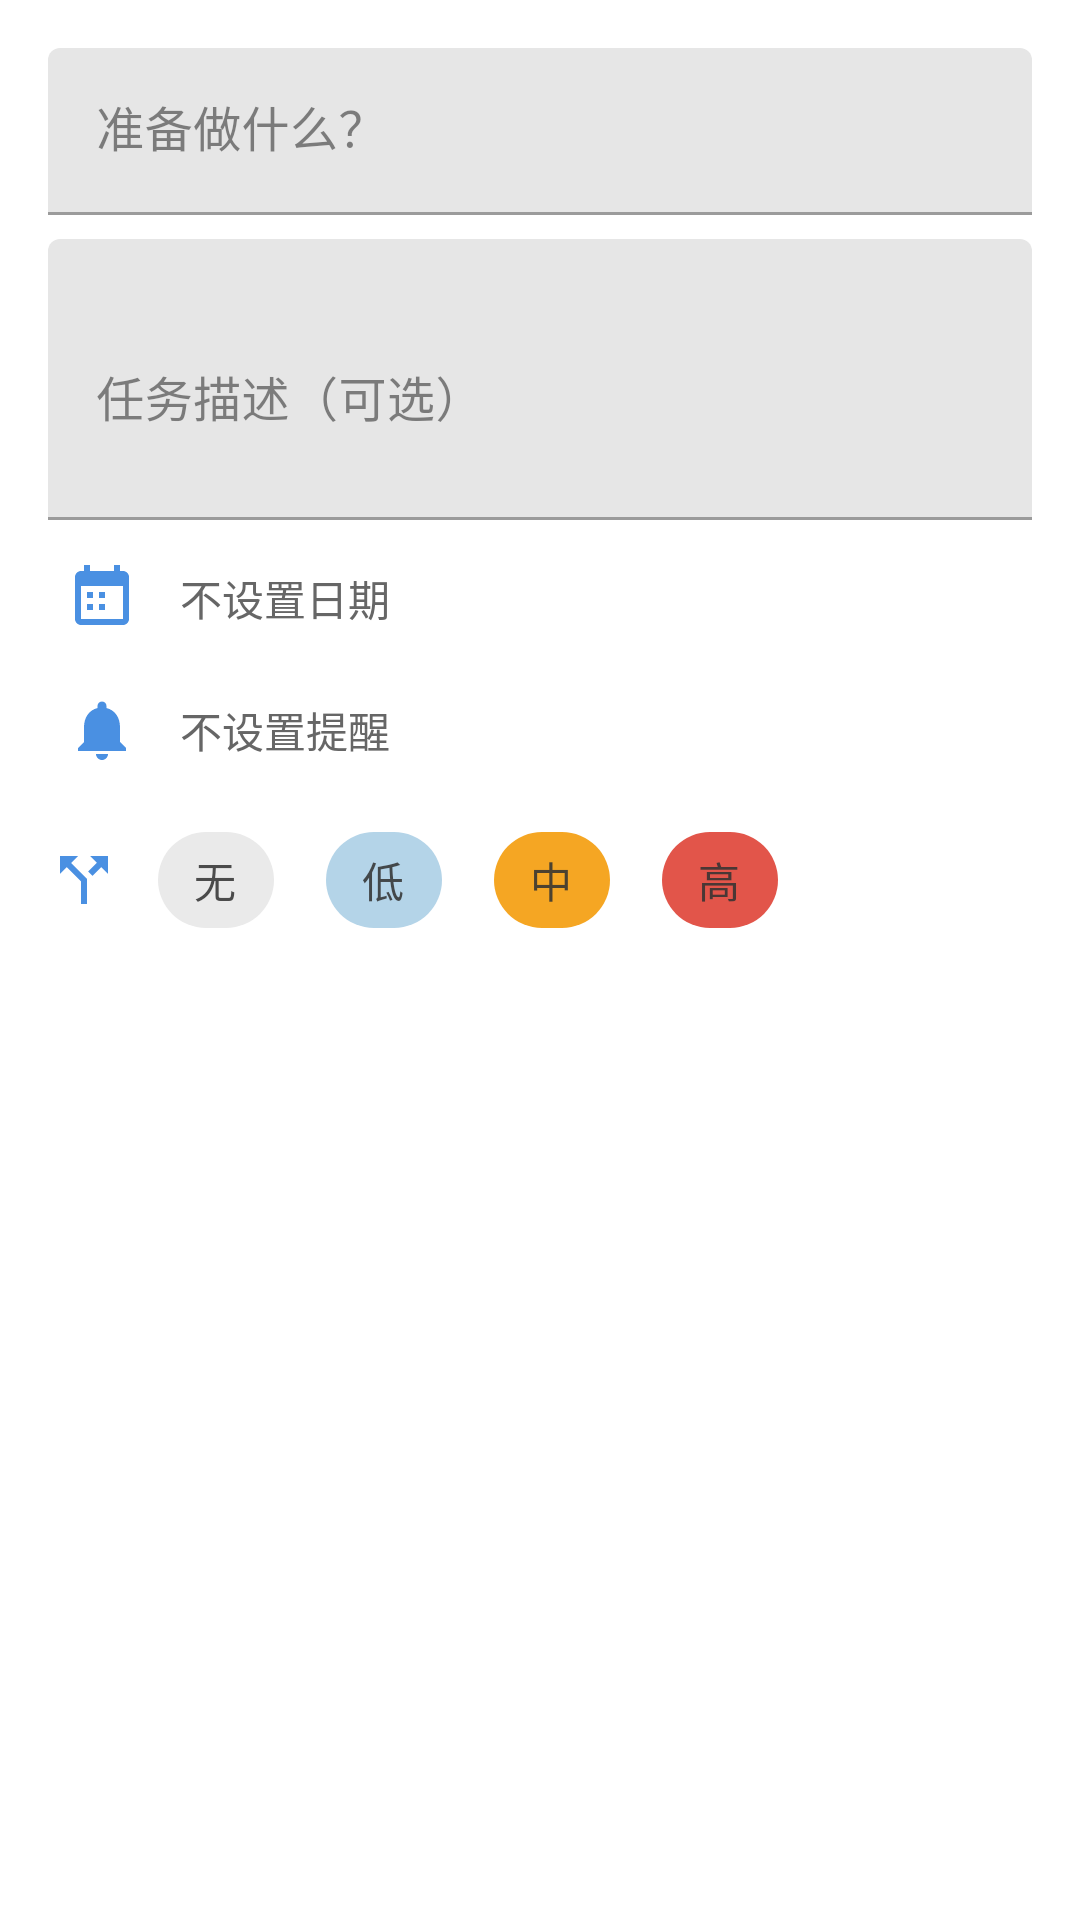

Where to tap for icons on this 1080 x 1920 app screen, as (x,y):
提醒时间: (102,730)
选择日期: (102,595)
